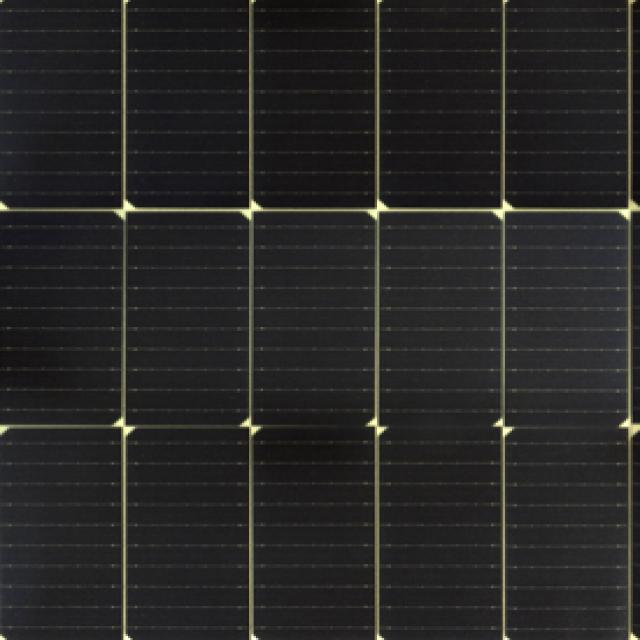CELL SHORT: (135, 412, 633, 444)
